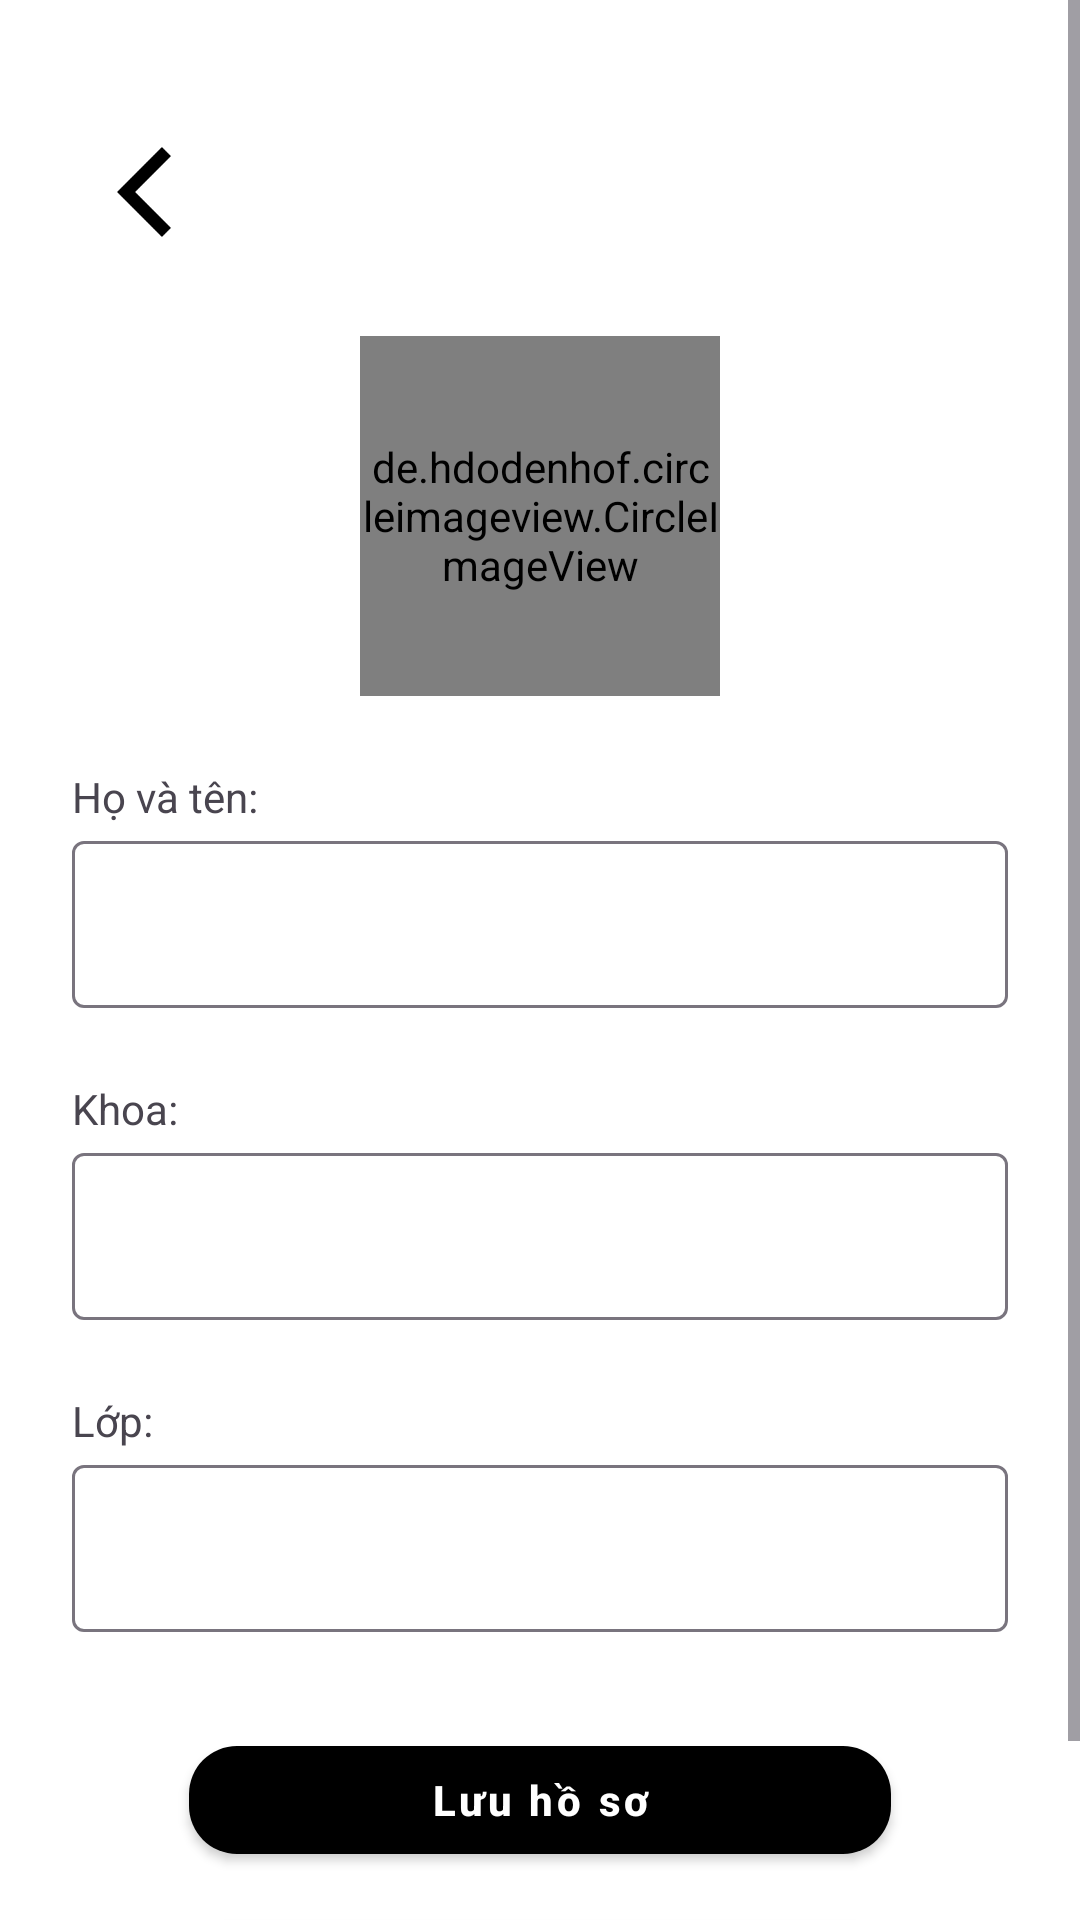

Icons on this 1080×1920 Android screen, each with the point to tap as point (x, y):
arrow back: point (144, 192)
